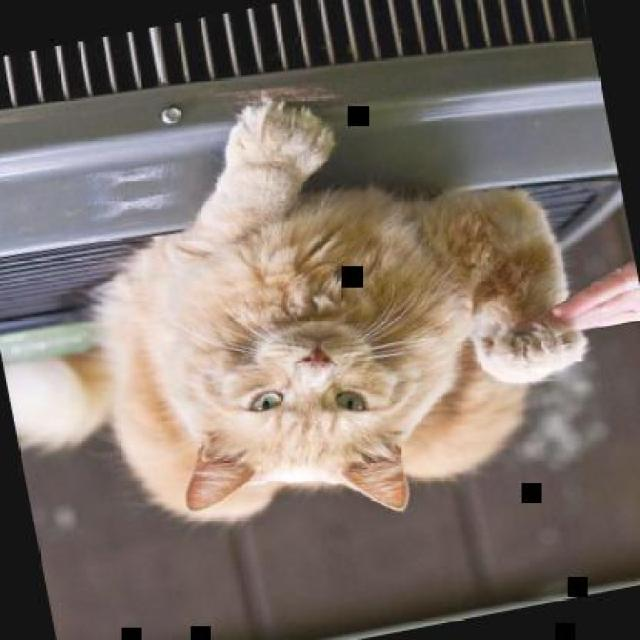cat: (0, 52, 606, 585)
